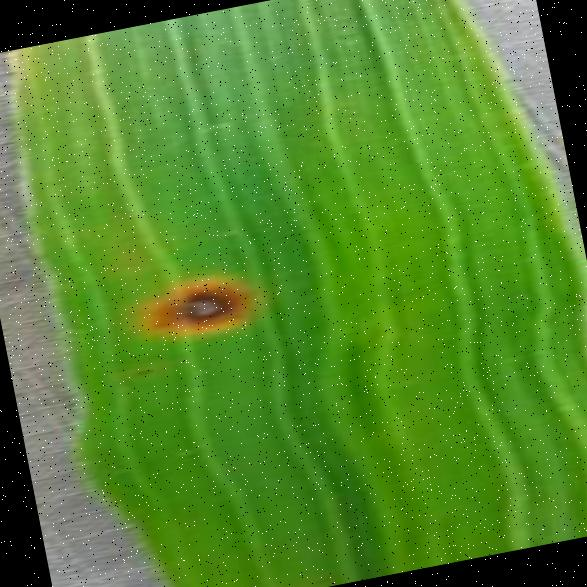Brown_Spot: (120, 258, 264, 354), (120, 358, 160, 386)
